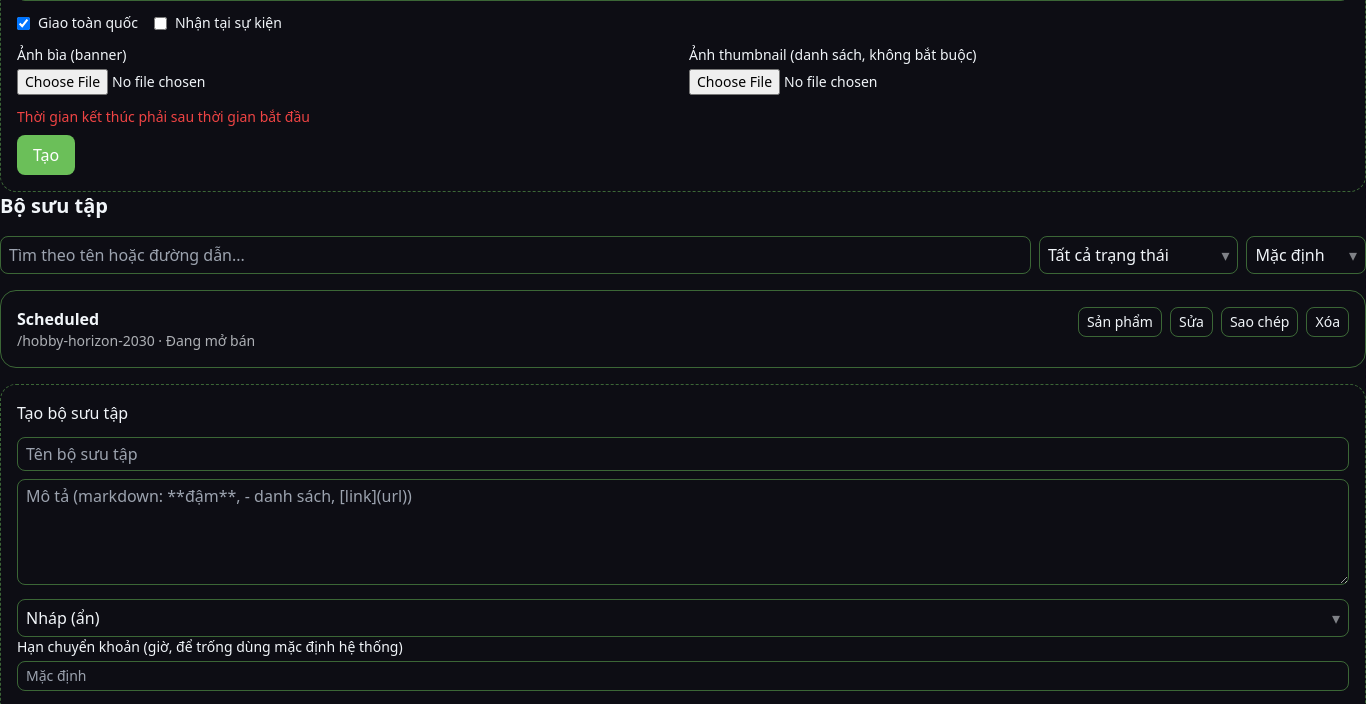
Test: AdminCollections - scheduling › populates start_at and end_at as datetime-local strings when editing an existing collection
The width and height of the screenshot is (1366, 704).
(page scrolled)
What coordinates should you click on to do the following:
click the button "Sửa"
I would click on:
 (1192, 322)
Its box is [1170,307,1213,337].
(page scrolled)
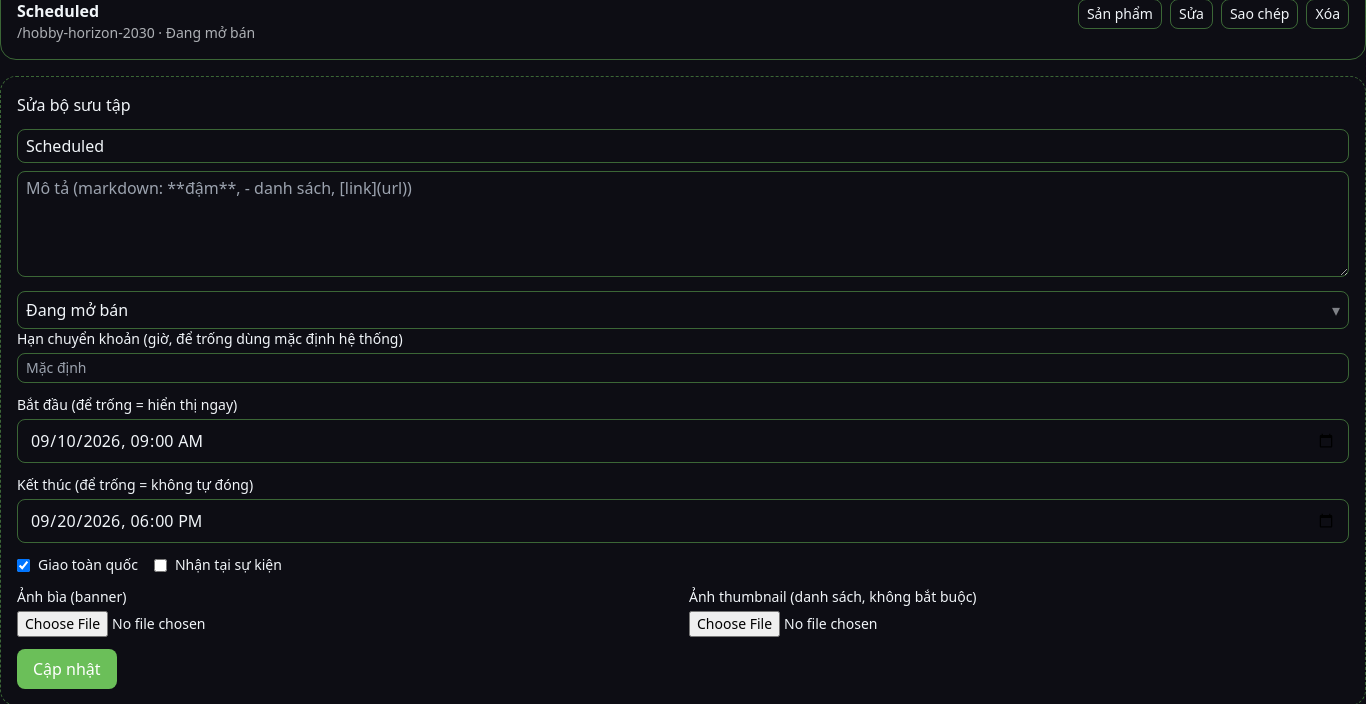
Now the field labelled "Bắt đầu (để trống = hiển thị ngay)" is not empty, box [17,419,1349,463]
Now the field labelled "Kết thúc (để trống = không tự đóng)" is not empty, box [17,499,1349,543]
